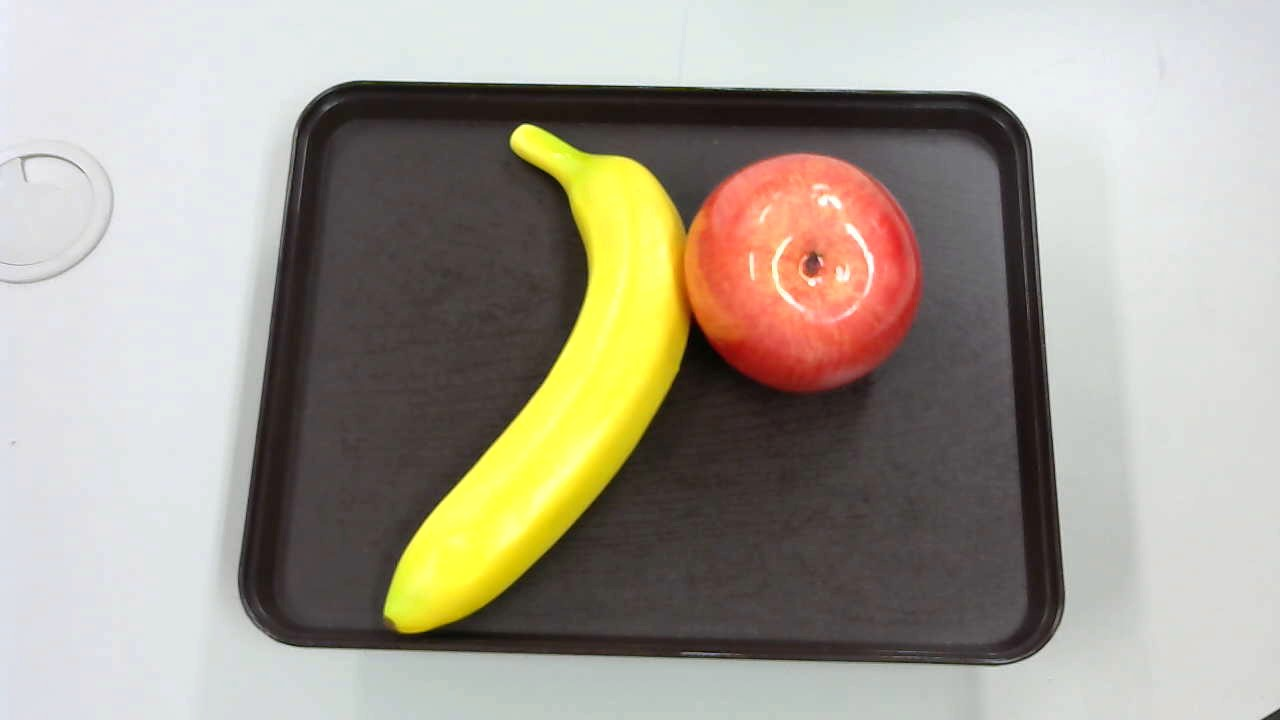banana: (373, 116, 693, 632)
red apple: (678, 146, 922, 400)
